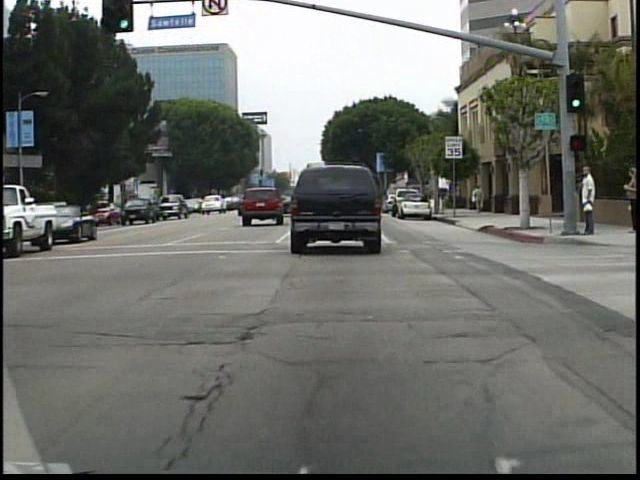person: (575, 158, 598, 241), (620, 161, 635, 235), (473, 182, 490, 219), (428, 185, 442, 216)
